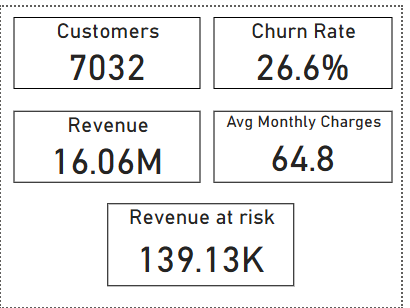

The page's visual inventory and layout, read from the dashboard file:
{"tool":"powerbi","page":{"name":" Customer Details","canvas":[320,240],"ordinal":2},"visuals":[{"type":"card","title":"Customers","fields":{"Values":["CountNonNull(Churn Data.customer_id)"]},"box":[10,8,150,58],"z":0},{"type":"card","title":"Churn Rate","fields":{"Values":["Churn Data.Churn Rate %"]},"box":[170,8,143,58],"z":1000},{"type":"card","title":"Revenue","fields":{"Values":["Churn Data.Total Revenue"]},"box":[10,83,150,58],"z":2000},{"type":"card","title":"Avg Monthly Charges","fields":{"Values":["Avg(Churn Data.monthly_charges)"]},"box":[170,83,143,58],"z":3000},{"type":"card","title":"Revenue  at risk","fields":{"Values":["Churn Data.Revenue At Risk"]},"box":[85,157,150,67],"z":4000}]}

Visuals, with their boxes in screenshot pixels (x1, y1, x2, y2), scaled from the page's 320x240 canvas onto the 410x308 screenshot:
"Customers" card: [13, 10, 205, 85]
"Churn Rate" card: [218, 10, 401, 85]
"Revenue" card: [13, 107, 205, 181]
"Avg Monthly Charges" card: [218, 107, 401, 181]
"Revenue  at risk" card: [109, 201, 301, 287]
